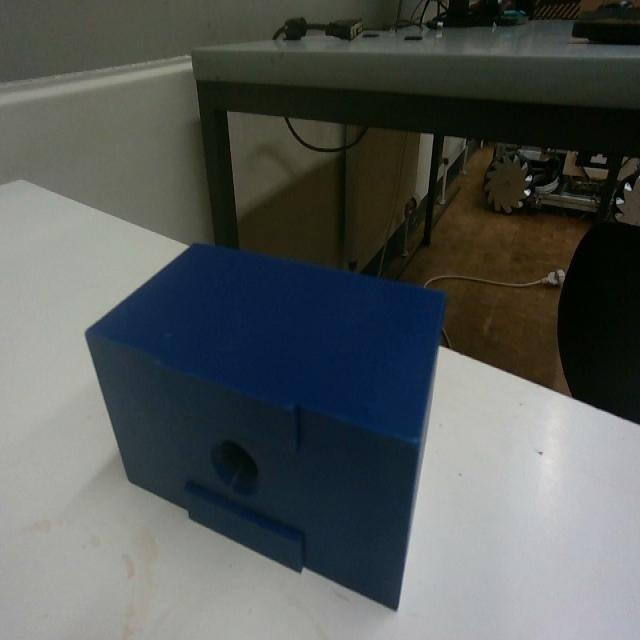Blue Cuboid: (83, 236, 448, 611)
